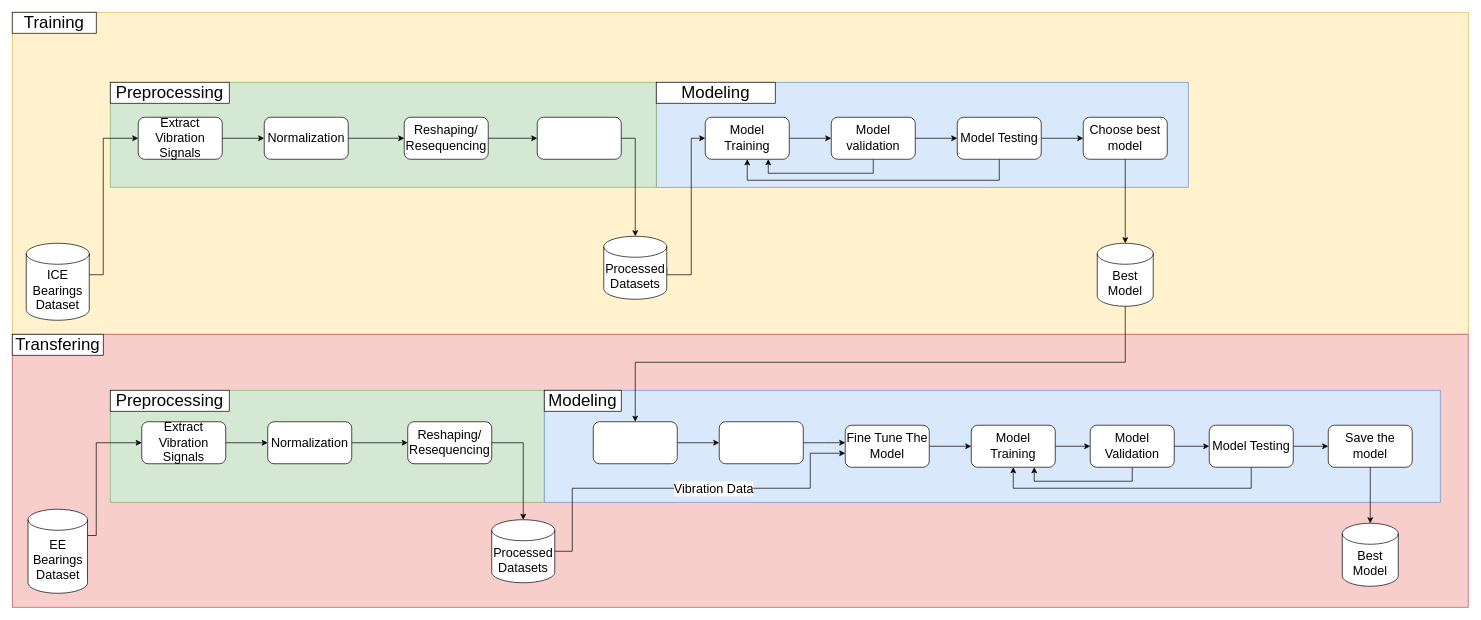
The diagram is 1481 pixels wide and 620 high, and some of its shapes have lost their labels. Here are the shapes that lost their labels. From the top down, the box of each, then its label:
(537, 117, 621, 159): Train-test-validation split
(593, 421, 677, 464): Model Loading
(719, 421, 803, 464): Remove output layer
